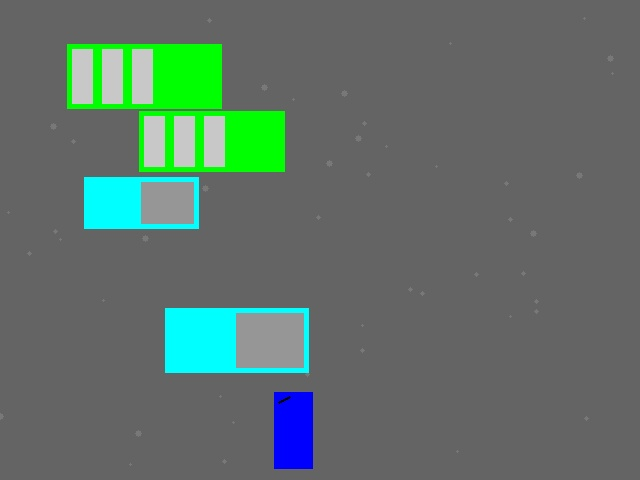bus: (67, 44, 221, 108), (139, 111, 284, 171)
motorcycle: (274, 392, 312, 468)
truck: (165, 308, 308, 372), (84, 177, 198, 228)
